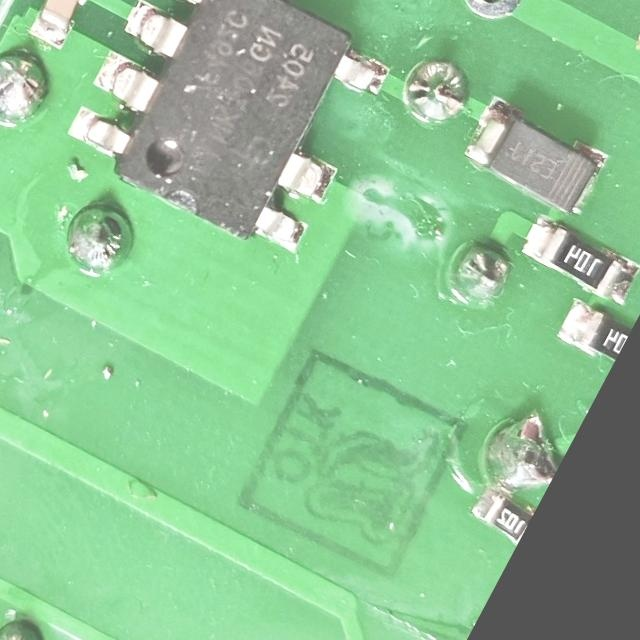chip-capacitor: (21, 0, 100, 54)
chip-resistor: (513, 208, 640, 311), (551, 292, 634, 368), (467, 480, 537, 544)
diode: (454, 88, 614, 224)
ic: (54, 0, 406, 272)
